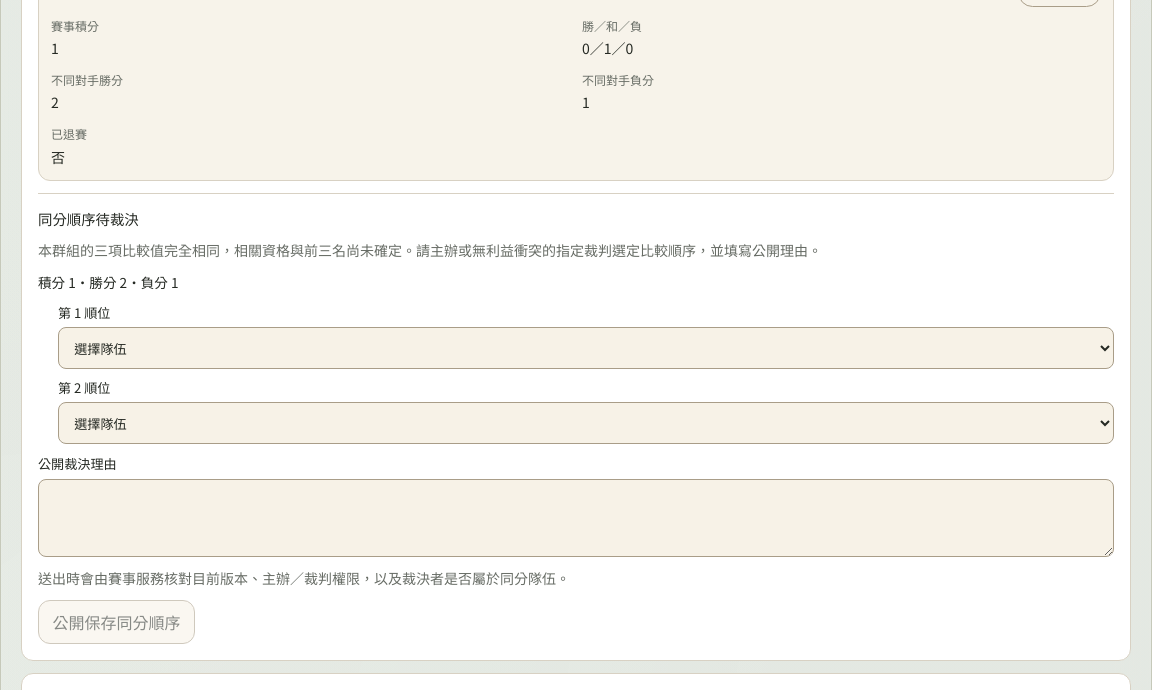
shows formal opponent scores and submits a complete public ranking tie decision
(page scrolled)
expect the text "積分 1・勝分 2・負分 1" is shown: met, box [38,272,178,292]
Select "team-b" in the dropdown labelled "第 1 順位" at (586, 348), box [58,327,1114,369]
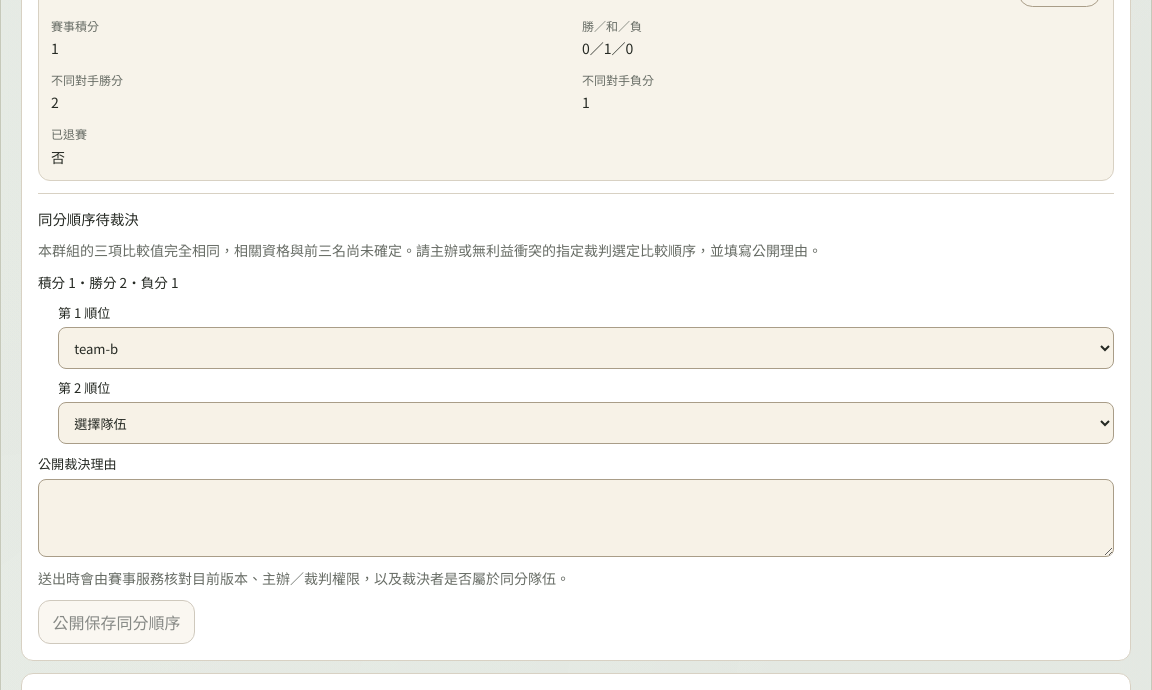
Select "team-a" in the dropdown labelled "第 2 順位" at (586, 423), box [58,402,1114,444]
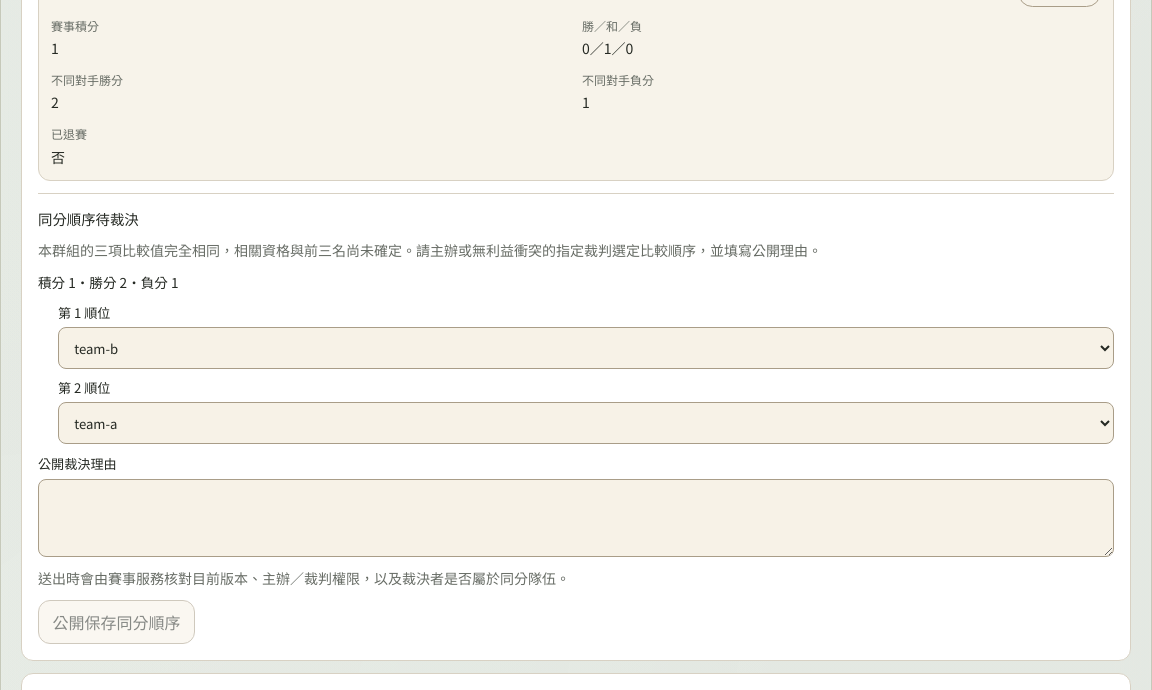
Type "依公開的同分處理理由排序" into the text box labelled "公開裁決理由" at (576, 518), box [38,479,1114,557]
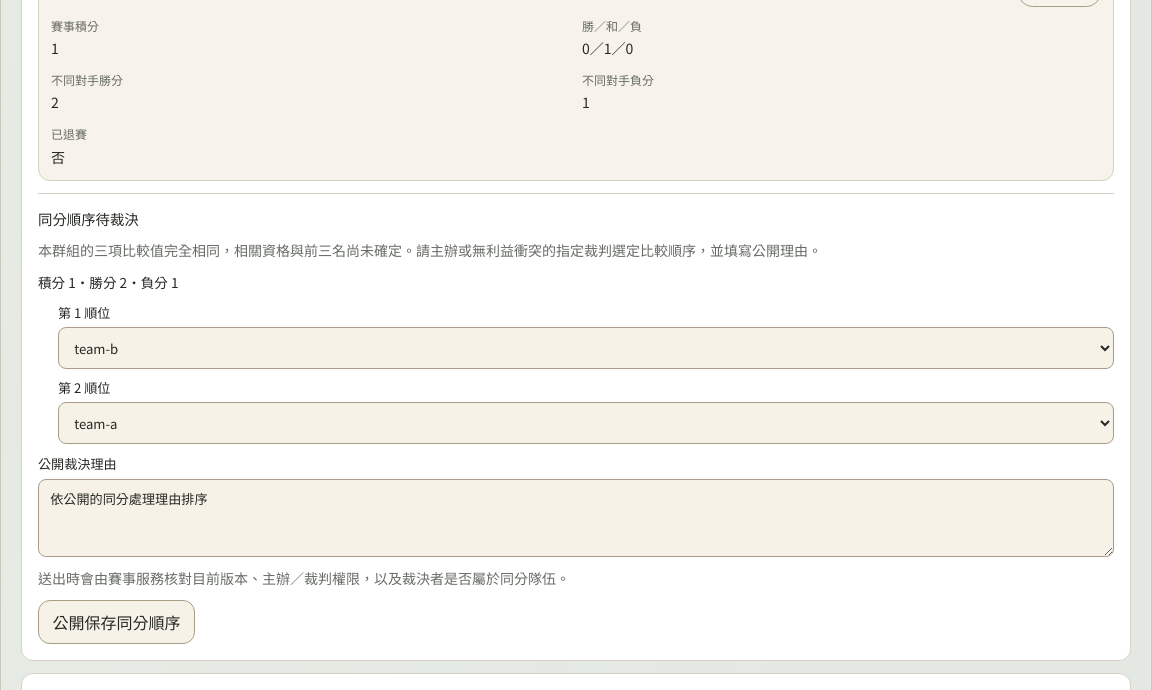
expect the button with class "tie-submit" is enabled: met
Click the button with class "tie-submit" at (117, 622), box [38,600,195,644]
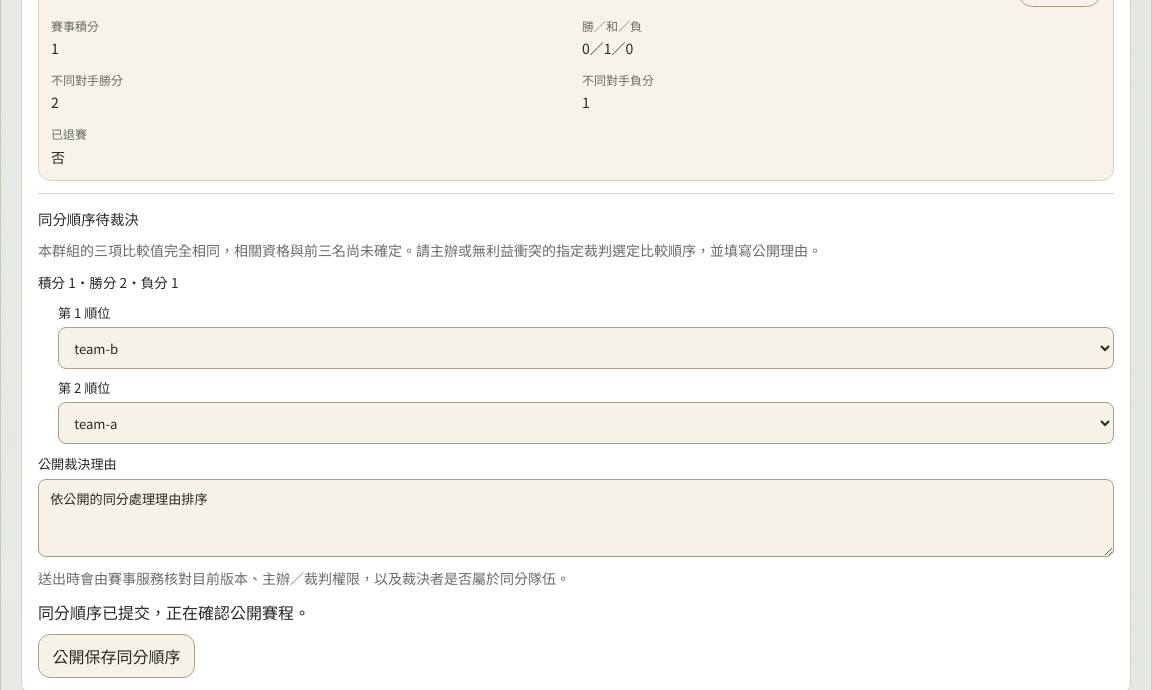
expect the text "同分順序已提交，正在確認公開賽程。" is shown: met, box [38,600,310,624]
